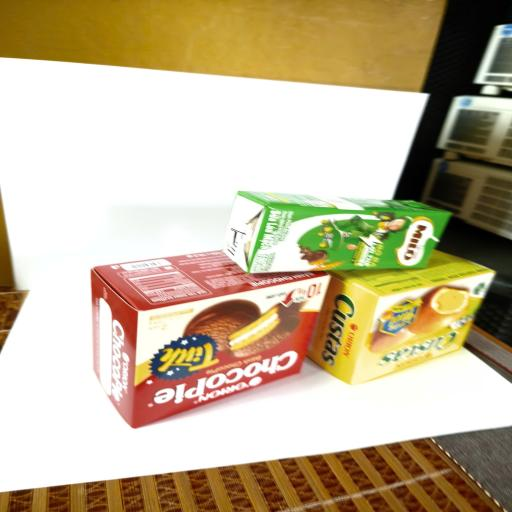chocopie: (91, 250, 331, 428)
custas: (305, 250, 495, 386)
milo: (223, 190, 453, 274)
